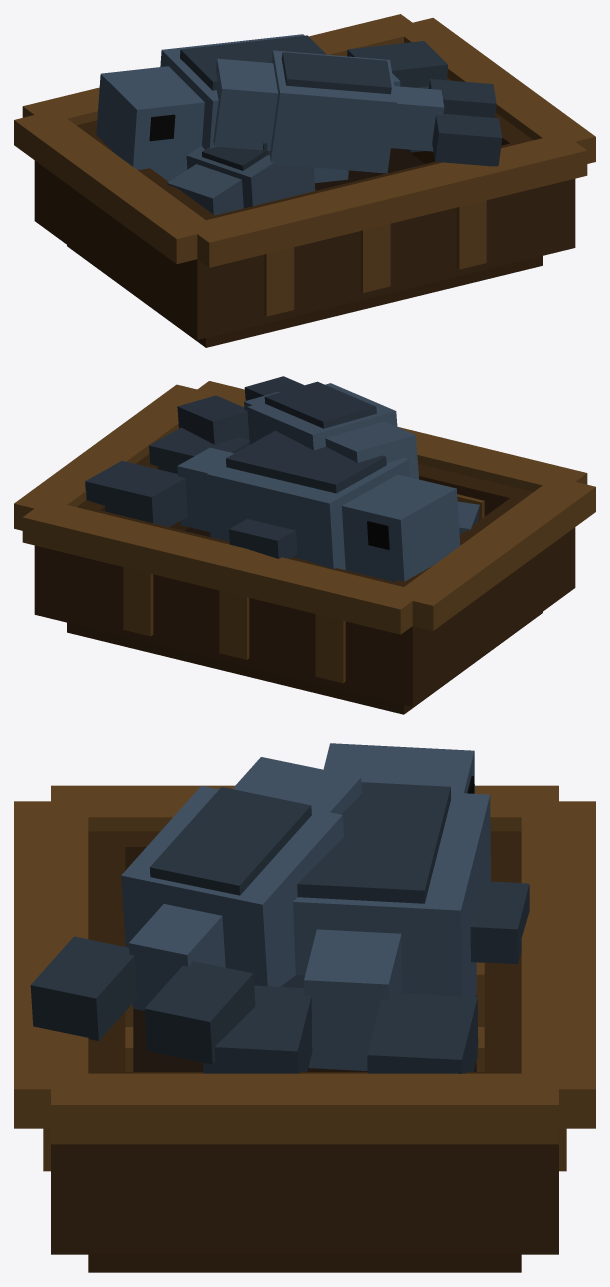
The model's file is FishBasket.glb.
The picture shows the model from 3 angles, top to bottom: view 1: azimuth 30°, elevation 25°; view 2: azimuth 150°, elevation 25°; view 3: azimuth 270°, elevation 25°; orthographic projection. The views are drawn at different scales.
Parts seen in each view (by area): view 1: FishBasket; view 2: FishBasket; view 3: FishBasket.
Part boxes in pixels (x1,y1,x2,y2): FishBasket: (14,14,595,347); FishBasket: (14,376,595,714); FishBasket: (14,743,595,1272).
Bounding box in the file's own units: 0.488 × 0.2307 × 0.376.
